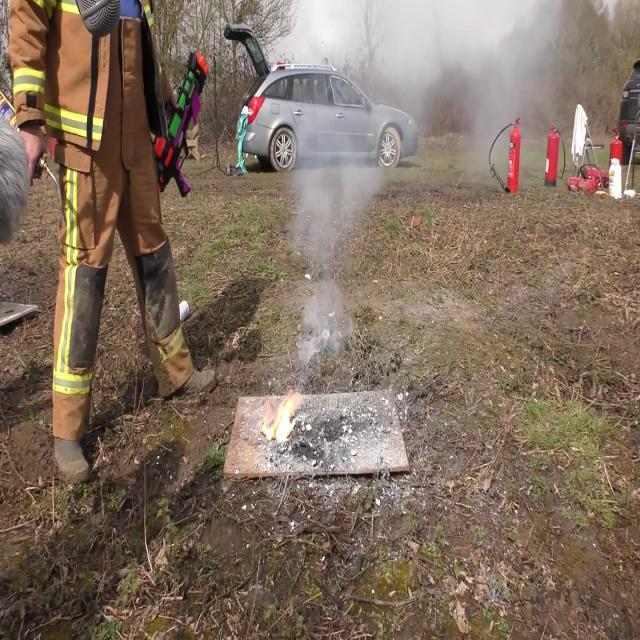Fire: (261, 388, 303, 446)
Smoke: (279, 0, 566, 216)
